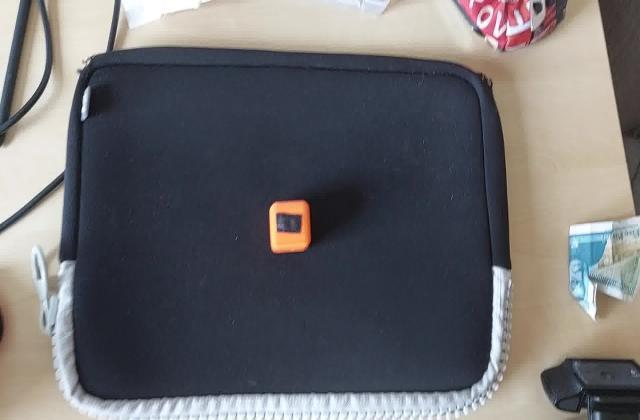black: (273, 211, 304, 237)
sticker: (268, 198, 314, 254)
